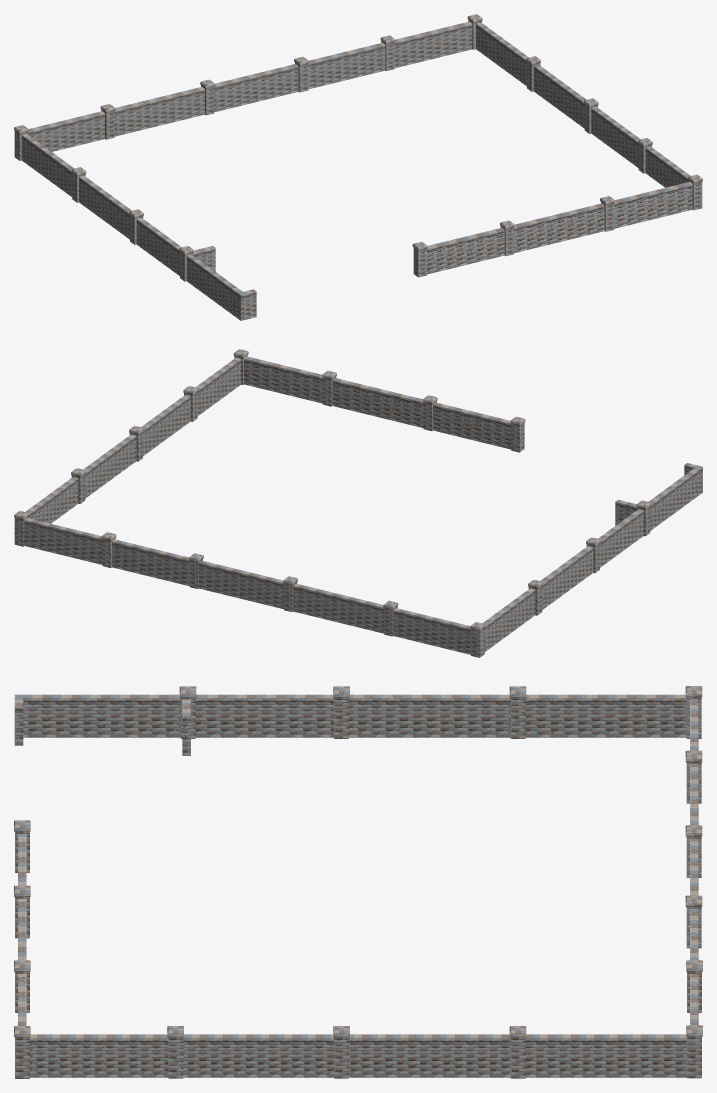
Rendered from furni_0200932.FBX.
3 renders of one model, top to bottom at view 1: azimuth 30°, elevation 25°; view 2: azimuth 150°, elevation 25°; view 3: azimuth 270°, elevation 25°, orthographic. The views are drawn at different scales.
Visible parts, largest first — view 1: furni_0200932; view 2: furni_0200932; view 3: furni_0200932.
Part boxes in pixels (x1,y1,x2,y2): furni_0200932: [14, 14, 702, 320]; furni_0200932: [14, 349, 702, 657]; furni_0200932: [14, 686, 702, 1078].
Bounding box in the file's own units: 2830 × 176 × 2374.
1 material, 1 textured.
